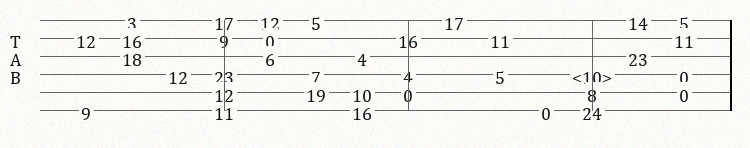0: (265, 30, 279, 46), (403, 84, 417, 100), (541, 102, 555, 118), (679, 66, 693, 82), (679, 84, 693, 100)
10: (352, 84, 376, 100)
11: (214, 102, 238, 118), (490, 30, 514, 46), (674, 30, 698, 46)
12: (76, 30, 100, 46), (168, 66, 192, 82), (214, 84, 238, 100), (260, 12, 284, 28)
14: (628, 12, 652, 28)
16: (122, 30, 146, 46), (352, 102, 376, 118), (398, 30, 422, 46)
17: (214, 12, 238, 29), (444, 12, 468, 29)
18: (122, 48, 146, 64)
19: (306, 84, 330, 100)
23: (214, 66, 238, 82), (628, 48, 652, 64)
24: (582, 102, 606, 118)
3: (127, 12, 141, 28)
4: (357, 48, 371, 64), (403, 66, 417, 82)
5: (311, 12, 325, 29), (495, 66, 509, 83), (679, 12, 693, 29)
6: (265, 48, 279, 64)
7: (311, 66, 325, 83)
8: (587, 84, 601, 100)
9: (81, 102, 95, 118), (219, 30, 233, 46)
harmonic: (572, 66, 616, 82)
